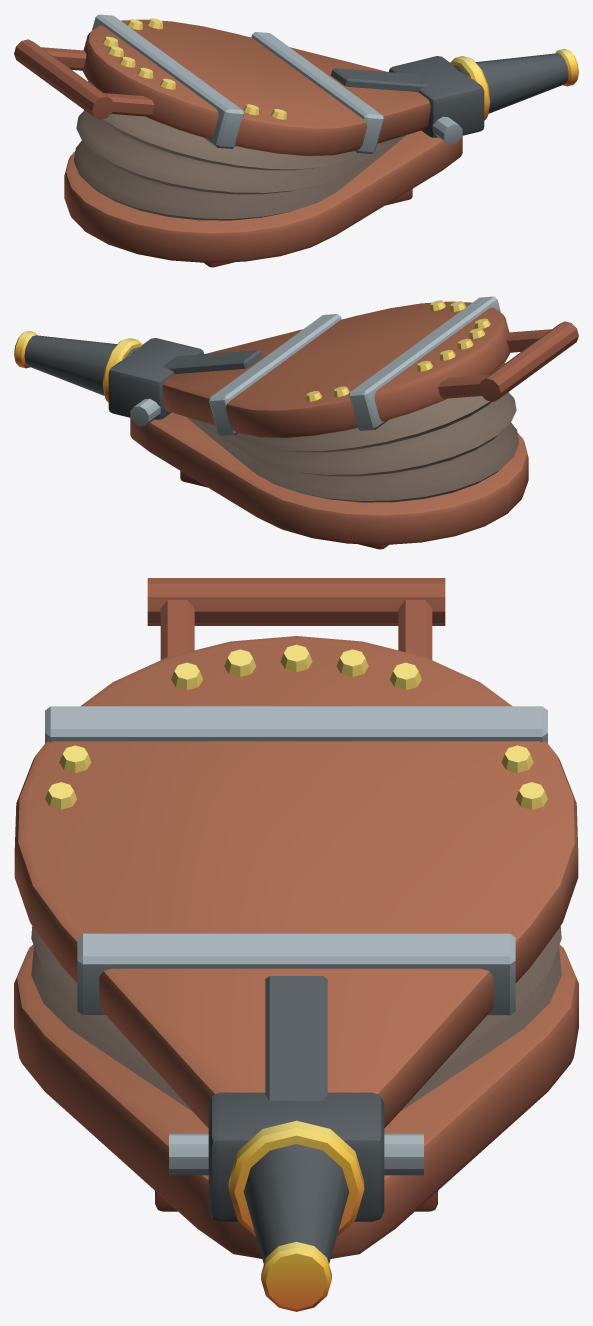
Rendered from bellows_giant.glb.
The picture shows the model from 3 angles, top to bottom: view 1: azimuth 30°, elevation 25°; view 2: azimuth 150°, elevation 25°; view 3: azimuth 270°, elevation 25°; orthographic projection. The views are drawn at different scales.
Parts seen in each view (by area): view 1: Lid, Base, Leather; view 2: Lid, Base, Leather; view 3: Lid, Base, Leather.
Part boxes in pixels (x1,y1,x2,y2): Lid: (14,14,430,155); Base: (64,49,578,267); Leather: (73,81,405,220); Lid: (162,296,578,437); Base: (14,331,528,549); Leather: (187,363,519,502); Lid: (14,578,578,1127); Base: (14,944,578,1311); Leather: (31,926,561,1111).
Size of the model in its own units: 4.01 by 1.34 by 1.99.
1 material, 1 textured.
